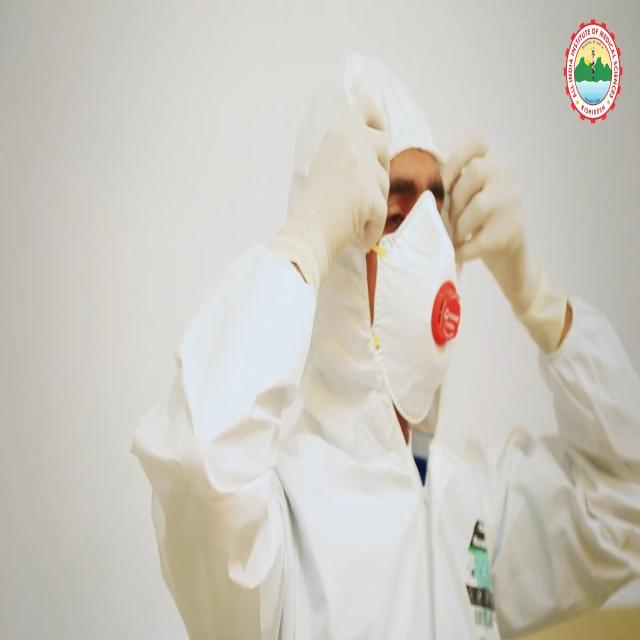Gloves: (436, 125, 575, 350), (272, 99, 396, 292)
